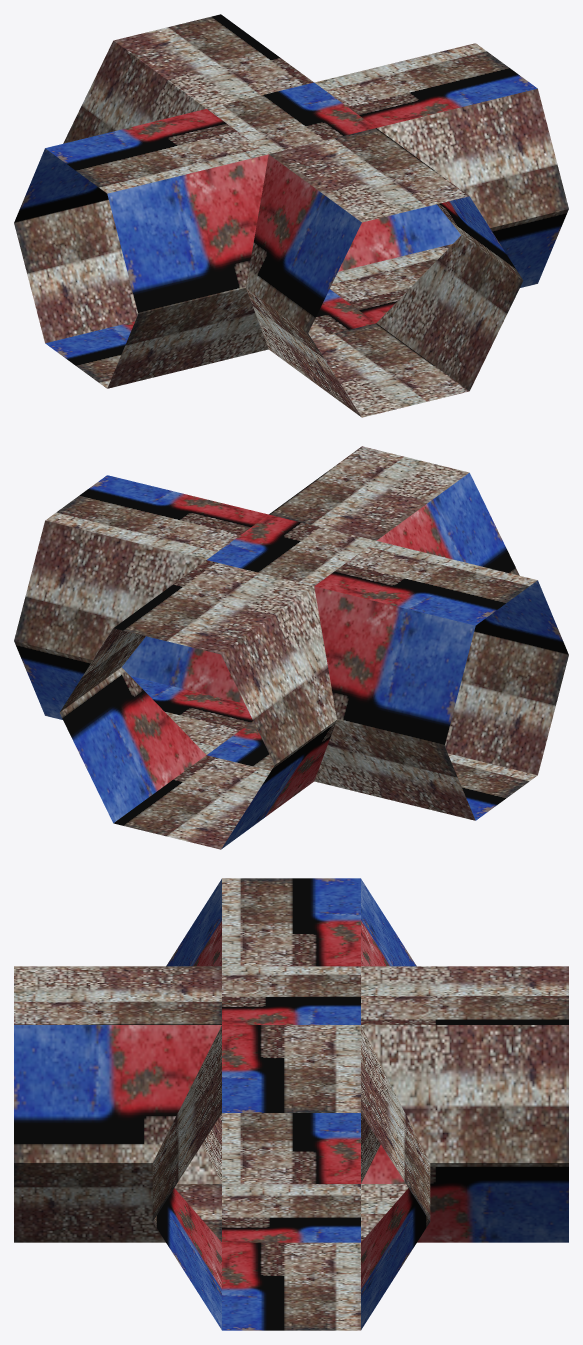
The model's file is Urban_PipeIntersection4wayRusted_Model.fbx.
3 renders of one model, top to bottom at view 1: azimuth 30°, elevation 25°; view 2: azimuth 150°, elevation 25°; view 3: azimuth 270°, elevation 25°, orthographic. The views are drawn at different scales.
Visible parts, largest first — view 1: Urban_PipeIntersection4wayRusted_Mesh; view 2: Urban_PipeIntersection4wayRusted_Mesh; view 3: Urban_PipeIntersection4wayRusted_Mesh.
Part boxes in pixels (x1,y1,x2,y2): Urban_PipeIntersection4wayRusted_Mesh: (14, 14, 568, 417); Urban_PipeIntersection4wayRusted_Mesh: (14, 446, 568, 849); Urban_PipeIntersection4wayRusted_Mesh: (14, 878, 568, 1330).
Bounding box in the file's own units: 1 × 0.433 × 1.
